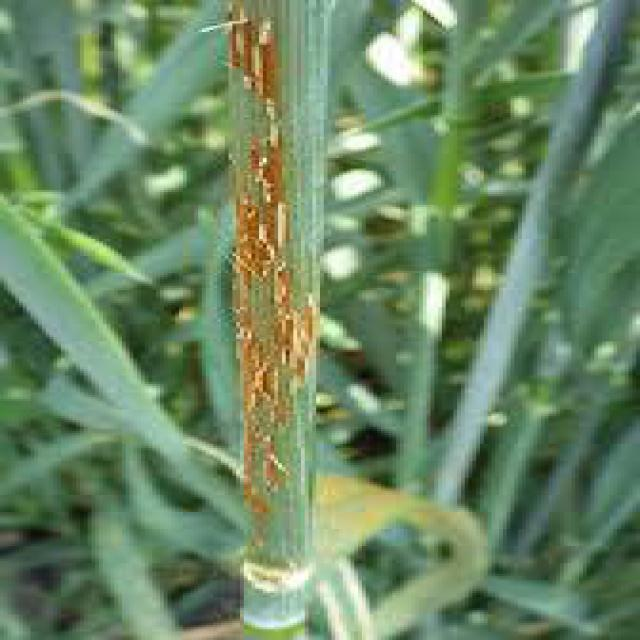Stem_Rust: (212, 0, 332, 590)
